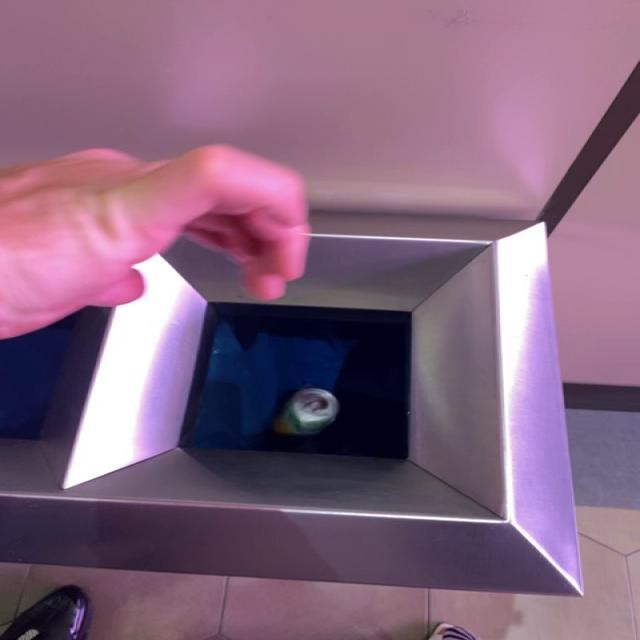bin: (3, 214, 583, 596)
metal: (273, 389, 340, 436)
